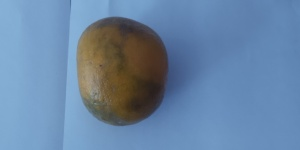BAD: (75, 12, 170, 129)
